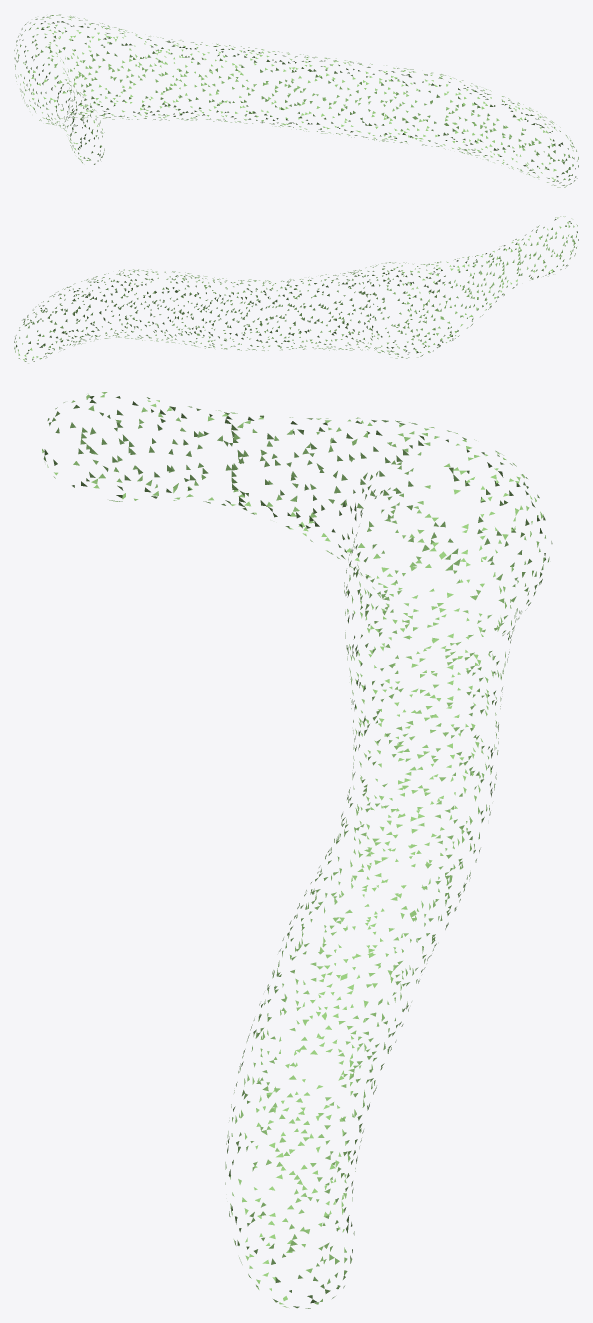
The model's file is morph_014.glb.
3 views of the same model, one above another, from view 1: azimuth 30°, elevation 25°; view 2: azimuth 150°, elevation 25°; view 3: azimuth 270°, elevation 25° (orthographic). The views are drawn at different scales.
Bounding box in the file's own units: 121 × 51.99 × 53.53.
